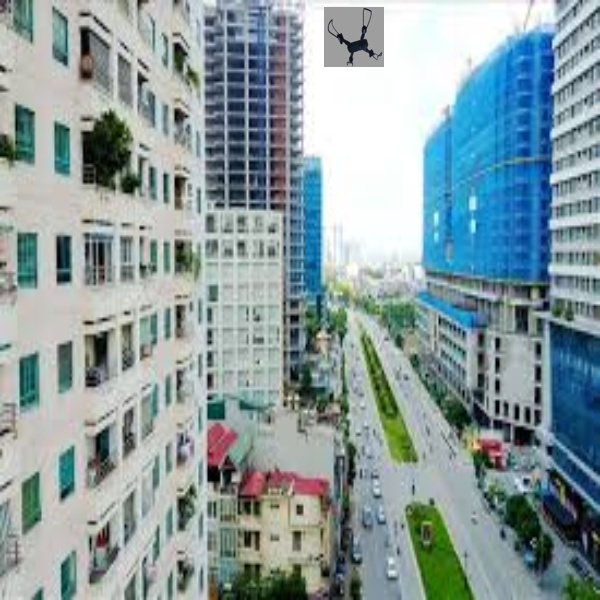drone: (320, 7, 384, 64)
